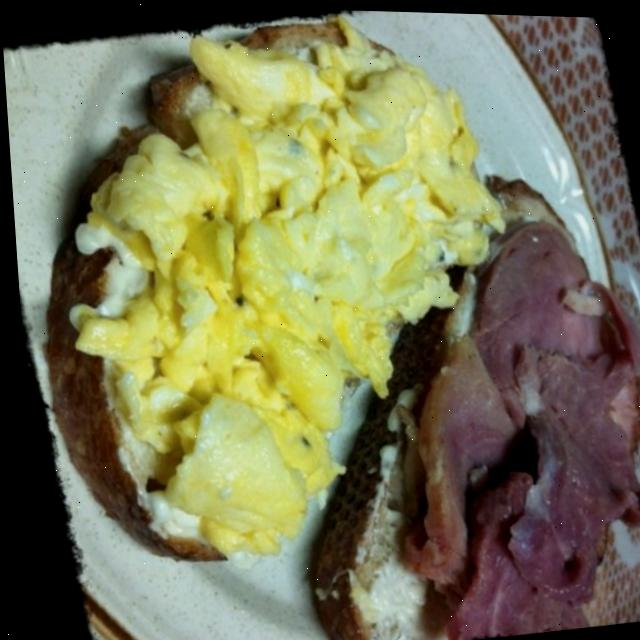鸡蛋料理: (0, 7, 640, 637)
